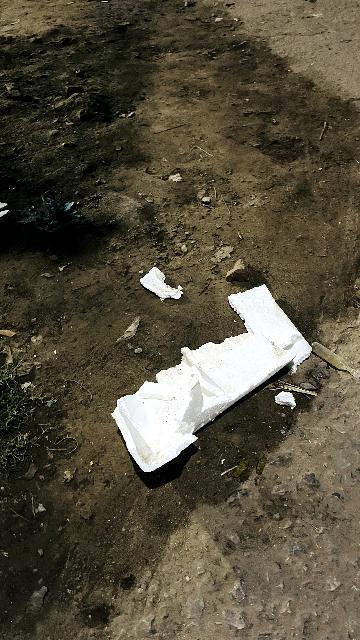cocksheet: (95, 281, 321, 484)
